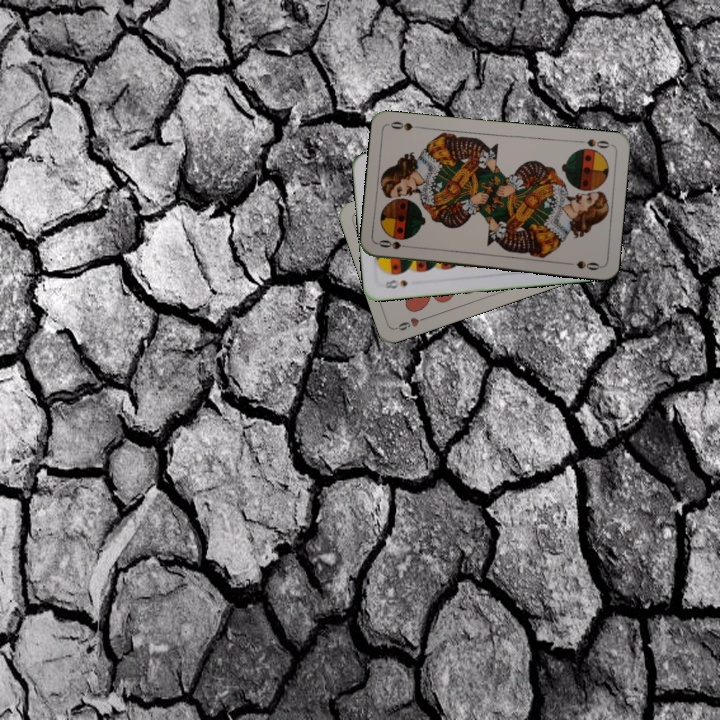H9: (392, 312, 431, 333)
S8: (381, 276, 410, 291)
SO: (375, 236, 415, 252), (574, 135, 614, 151)
